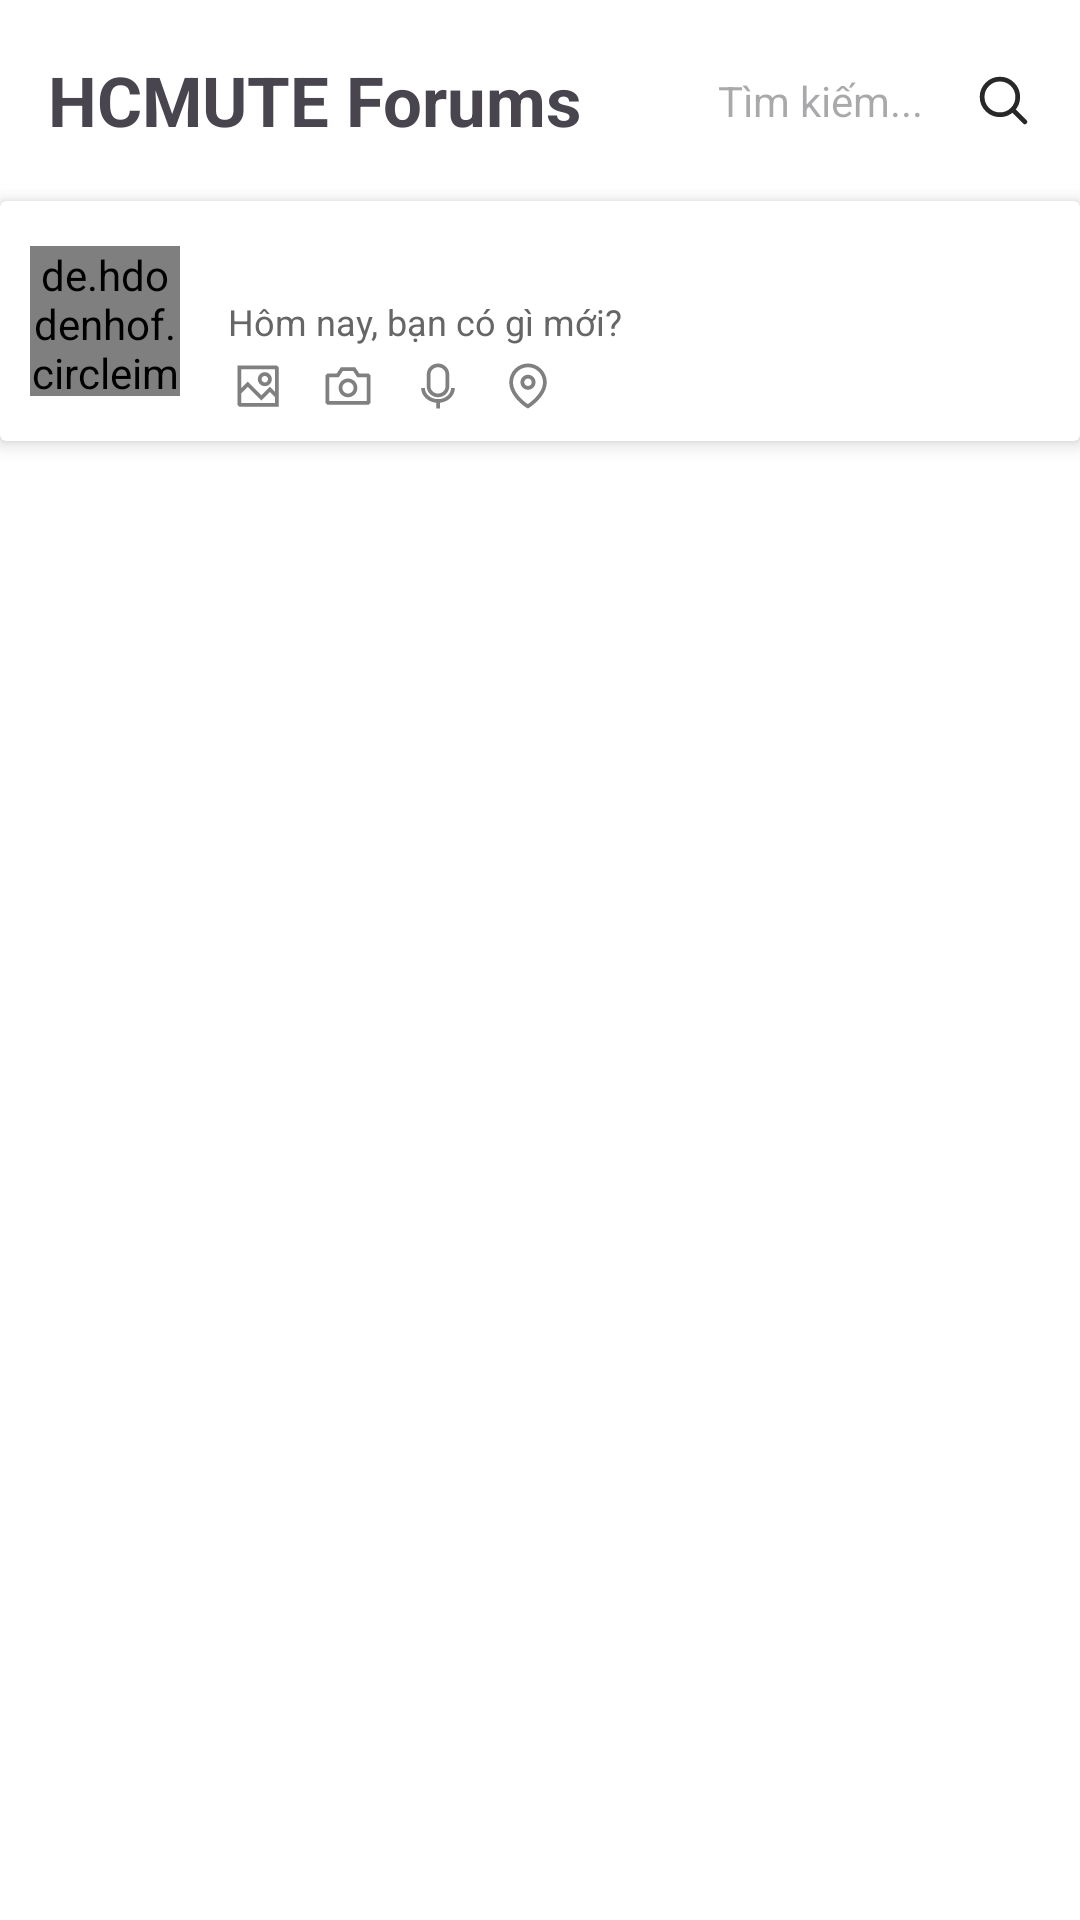

Screen size 1080 x 1920. Icon name, then its center in pixels as [x,y]:
camera: [348,386]
location: [528,386]
micro: [438,386]
search: [1003,100]
